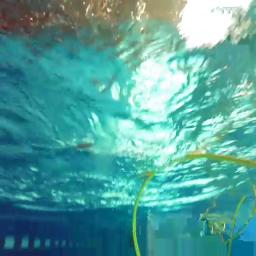Full: (202, 215, 226, 235)
